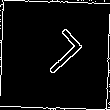L_SW: (26, 27, 84, 83)
